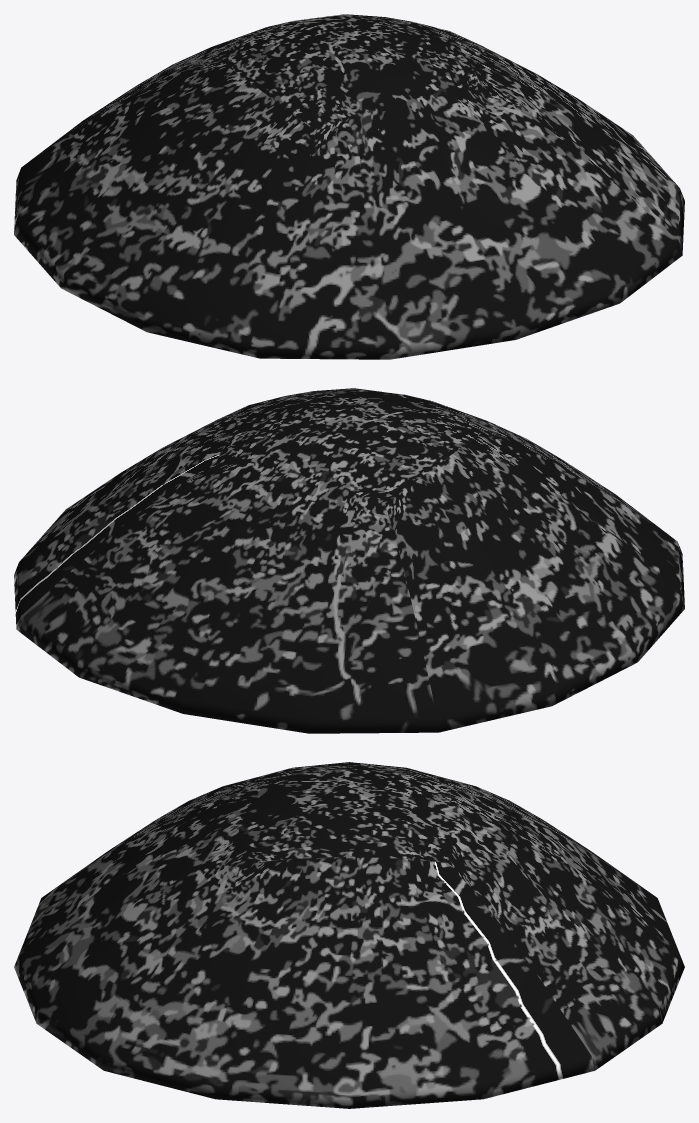
File: FlyWings.fbx
The picture shows the model from 3 angles, top to bottom: view 1: azimuth 30°, elevation 25°; view 2: azimuth 150°, elevation 25°; view 3: azimuth 270°, elevation 25°; orthographic projection.
Parts seen in each view (by area): view 1: polySurface3; view 2: polySurface3; view 3: polySurface3.
Part boxes in pixels (x1,y1,x2,y2): polySurface3: (14,14,684,359); polySurface3: (14,388,684,733); polySurface3: (14,762,684,1108).
Size of the model in its own units: 5.23 by 1.66 by 5.23.
